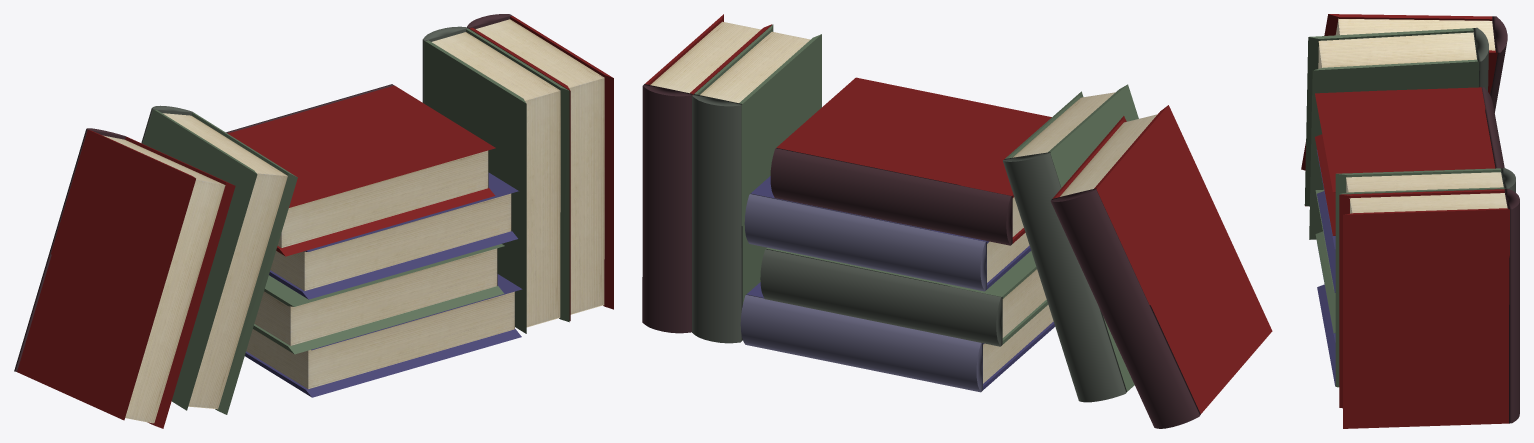
Rendered from books.fbx.
3 views of the same model, side by side, from view 1: azimuth 30°, elevation 25°; view 2: azimuth 150°, elevation 25°; view 3: azimuth 270°, elevation 25° (orthographic). The views are drawn at different scales.
Visible parts, largest first — view 1: pCube1 (×8), pPlane2 (×3), pPlane5 (×3), pPlane8 (×2), pPlane6 (×3), pPlane1 (×2), pPlane9 (×2), pCylinder1 (×2); view 2: pCylinder1 (×8), pCube1 (×8), pPlane6 (×3), pPlane1 (×2), pPlane9 (×2); view 3: pCube1 (×8), pPlane6 (×2), pCylinder1 (×5), pPlane1 (×2).
Part boxes in pixels (x1,y1,x2,y2): pCube1 (×8): (17,16,613,428); pPlane2 (×3): (125,78,604,422); pPlane5 (×3): (188,91,560,408); pPlane8 (×2): (304,193,514,389); pPlane6 (×3): (162,32,560,345); pPlane1 (×2): (103,19,604,184); pPlane9 (×2): (246,251,308,388); pCylinder1 (×2): (14,26,468,371); pCylinder1 (×8): (642,84,1200,428); pCube1 (×8): (645,14,1272,413); pPlane6 (×3): (700,31,1115,337); pPlane1 (×2): (650,21,1157,196); pPlane9 (×2): (983,233,1053,383); pCube1 (×8): (1301,14,1509,428); pPlane6 (×2): (1318,32,1503,192); pCylinder1 (×5): (1473,16,1519,423); pPlane1 (×2): (1338,18,1507,213).
Size of the model in its own units: 17.66 by 7.77 by 6.8.
Materials: 7 (1 with a texture image).
